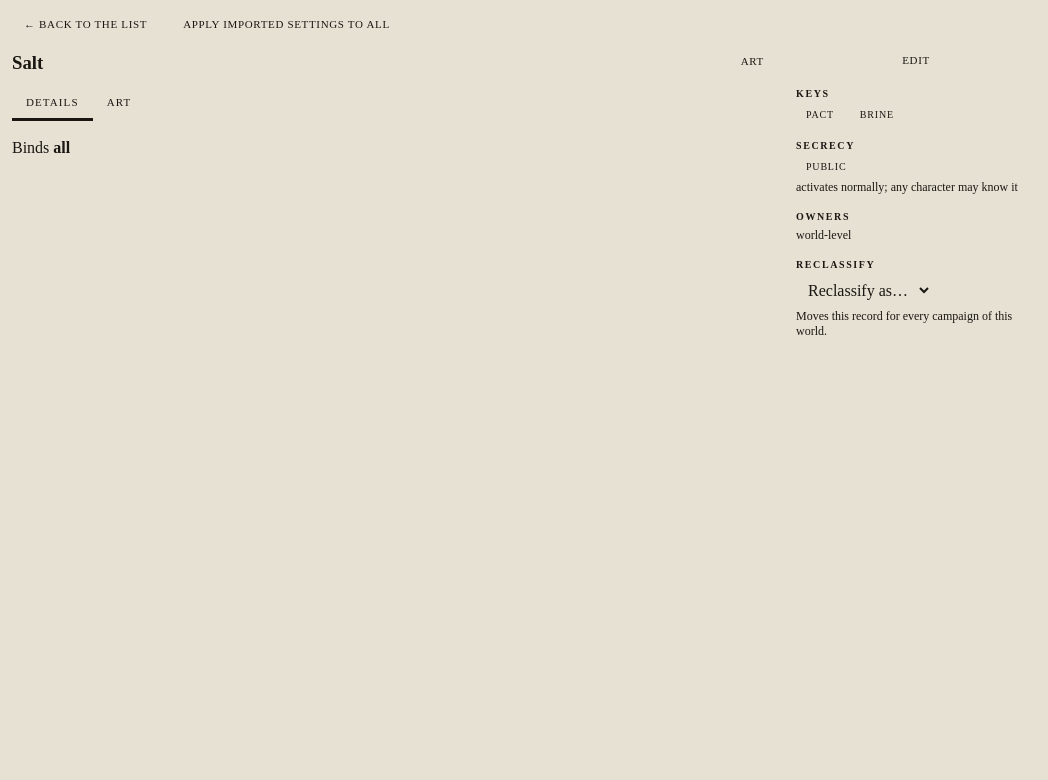
Test case: clicking an entity shows a read-only view; Edit reveals the form
The width and height of the screenshot is (1048, 780).
Check: the text "all" is shown, box top-left (53, 139), bottom-right (70, 156)
Check: the text "pact" is shown, box top-left (806, 109), bottom-right (834, 120)
Click the button "Edit": (916, 60) top-left (796, 48), bottom-right (1036, 72)
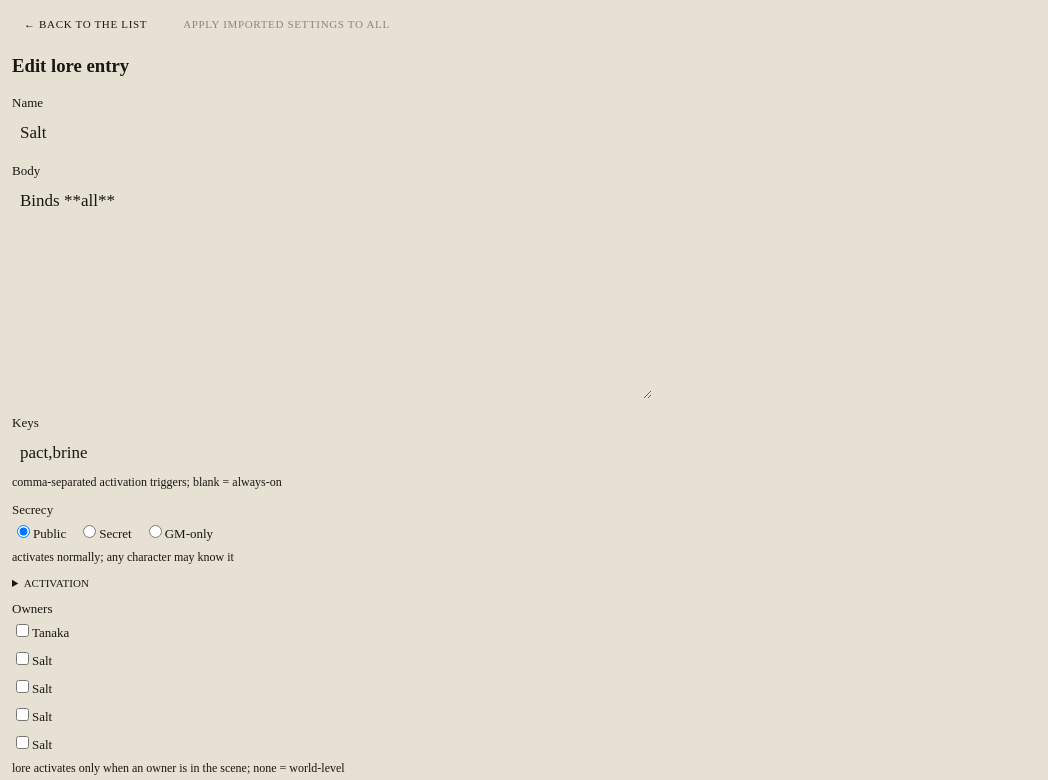
Check: the text box labelled "Body" is shown, box top-left (12, 183), bottom-right (652, 399)
